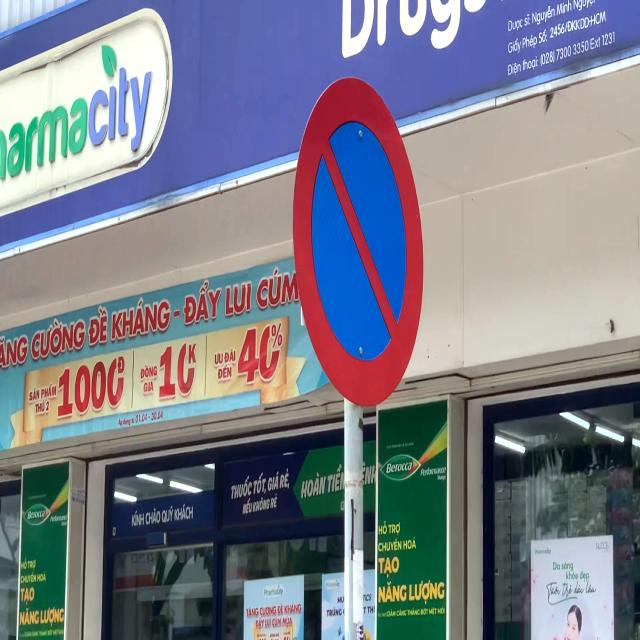P.131a: (292, 72, 428, 410)
